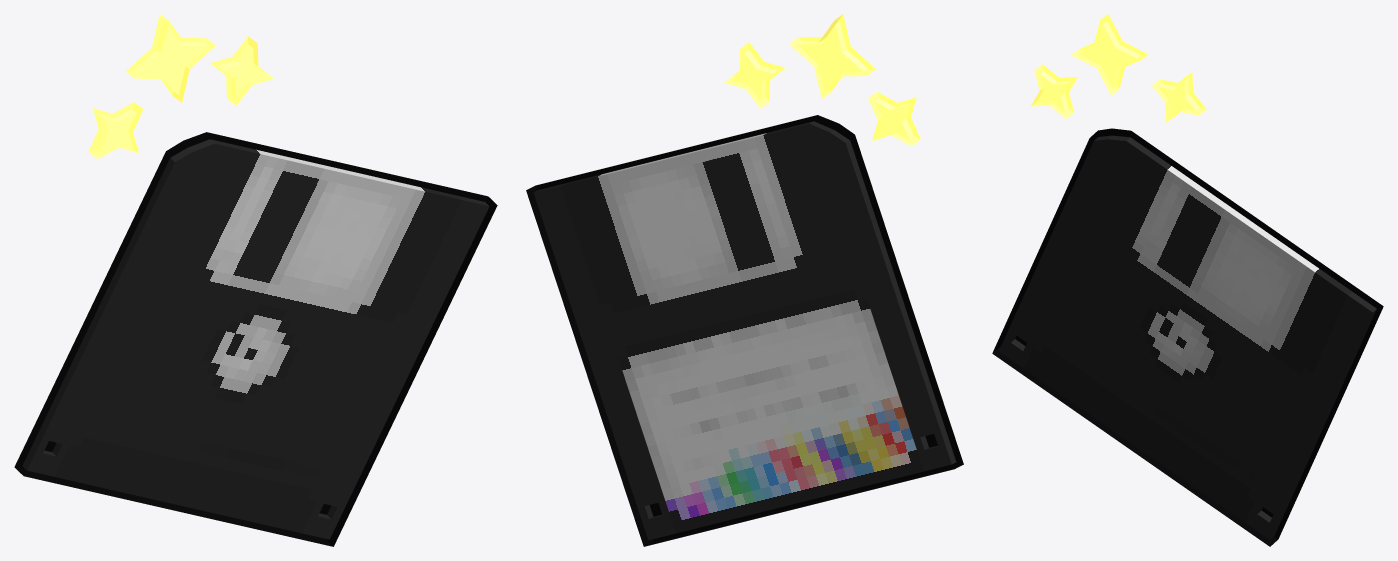
Rendered from floppy_disk_lowpoly_outline.glb.
The picture shows the model from 3 angles, left to right: view 1: azimuth 30°, elevation 25°; view 2: azimuth 150°, elevation 25°; view 3: azimuth 330°, elevation 25°; orthographic projection. The views are drawn at different scales.
Visible parts, largest first — view 1: Disk_0, Disk{}_1, YStar_5, YStar{}_6, YStar_7, YStar_4, YStar{}_8, YStar{}_3; view 2: Disk_0, Disk{}_1, YStar_5, YStar{}_6, YStar_7, YStar_4, YStar{}_8, YStar{}_3; view 3: Disk_0, Disk{}_1, YStar_5, YStar{}_6, YStar_7, YStar_4, YStar{}_8, YStar{}_3.
Part boxes in pixels (box(x1,y1,x2,y2)): Disk_0: box(22, 139, 489, 539); Disk{}_1: box(14, 132, 497, 546); YStar_5: box(134, 22, 207, 95); YStar{}_6: box(125, 14, 215, 102); YStar_7: box(95, 109, 136, 151); YStar_4: box(218, 44, 266, 97); YStar{}_8: box(88, 102, 143, 158); YStar{}_3: box(210, 36, 273, 105); Disk_0: box(533, 121, 956, 540); Disk{}_1: box(526, 115, 963, 546); YStar_5: box(797, 21, 867, 91); YStar{}_6: box(789, 14, 875, 98); YStar_7: box(875, 98, 913, 139); YStar_4: box(731, 50, 777, 100); YStar{}_8: box(868, 92, 920, 146); YStar{}_3: box(724, 42, 784, 108); Disk_0: box(999, 135, 1376, 539); Disk{}_1: box(992, 128, 1383, 546); YStar_5: box(1078, 21, 1141, 88); YStar{}_6: box(1071, 14, 1148, 95); YStar_7: box(1037, 71, 1071, 112); YStar_4: box(1158, 78, 1199, 116); YStar{}_8: box(1031, 64, 1077, 118); YStar{}_3: box(1151, 72, 1206, 122).
Size of the model in its own units: 0.692 by 0.8364 by 0.095.
Materials: 2 (2 with a texture image).
